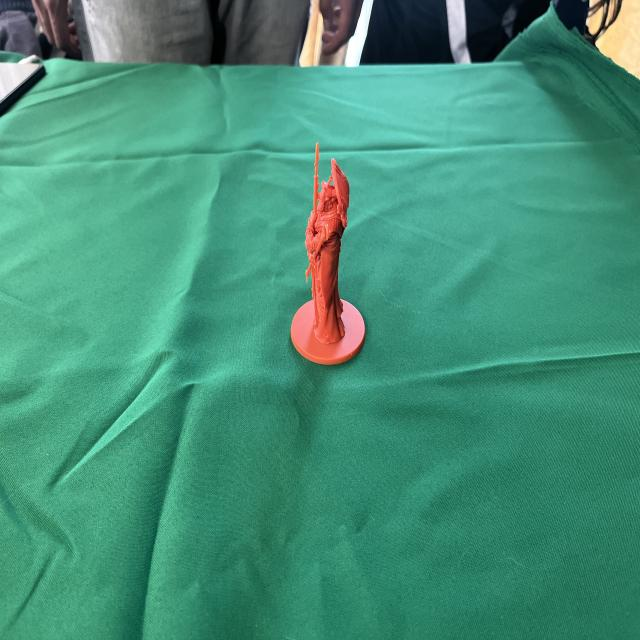amon: (286, 134, 371, 370)
